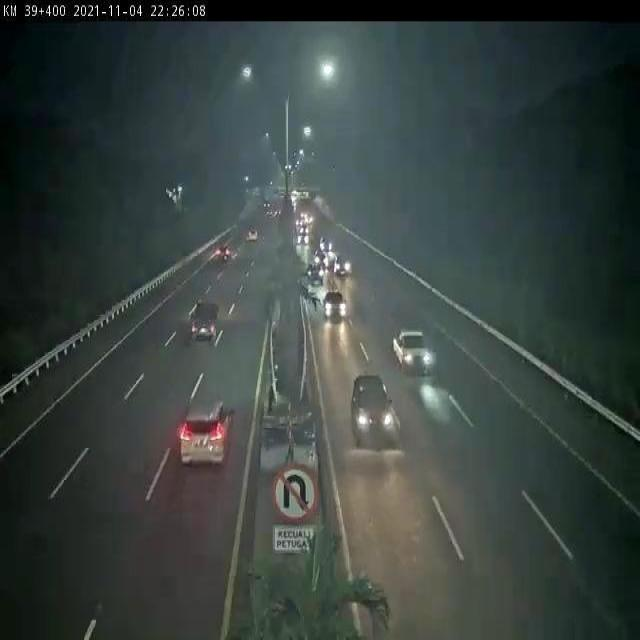Car: (173, 402, 237, 476), (350, 374, 399, 449), (393, 330, 434, 376), (190, 301, 219, 344), (322, 290, 348, 323), (305, 262, 324, 290), (334, 256, 352, 276), (213, 244, 230, 263), (245, 228, 258, 242)
